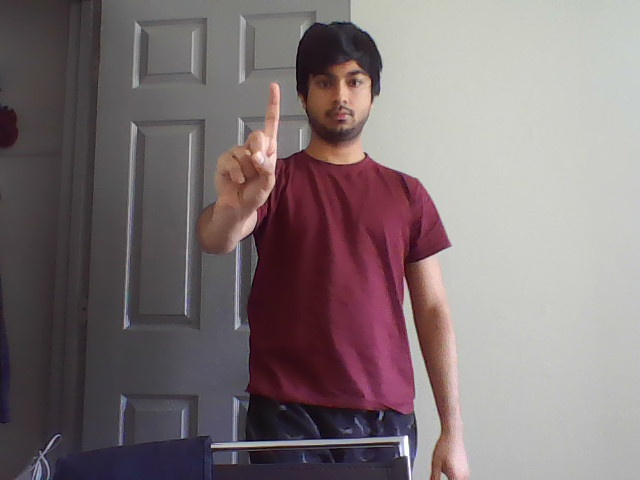one: (241, 75, 291, 163)
